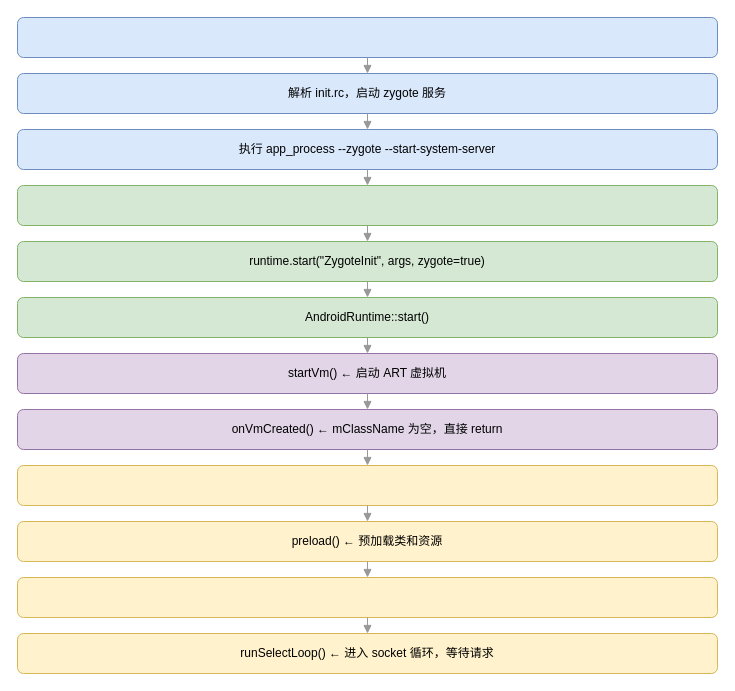
Some shapes in this 735 by 691 pixel diagram are drawn without their labels. The shapes that lost their labels are listed below. From the top down, each one's centre as x and y in pixels, then its label:
At (367,37): "init (PID=1)".
At (367,205): "app_main.cpp main() ← C++ 入口".
At (367,485): "ZygoteInit.main() ← 进入 Java 层".
At (367,597): "forkSystemServer() ← fork 出 system_server".
